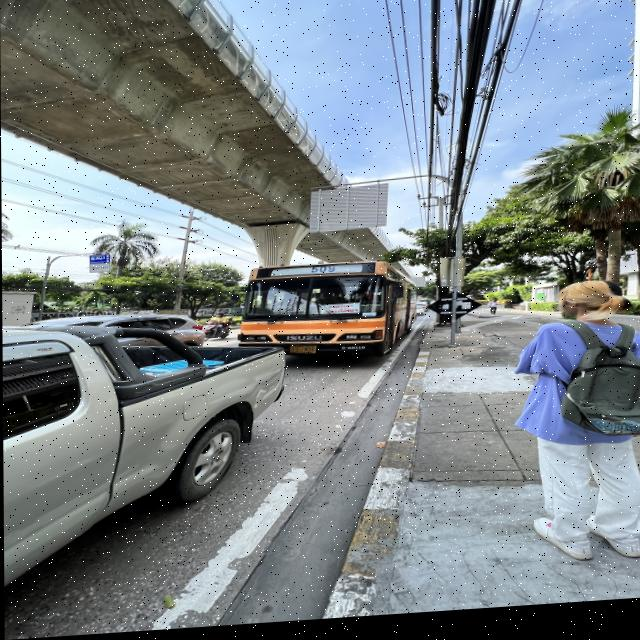BMTA-bus: (238, 267, 413, 361)
Bus Line Number: (304, 270, 341, 279)
Bus Side Number: (337, 348, 368, 356)
Destination Sign: (322, 307, 361, 320)
